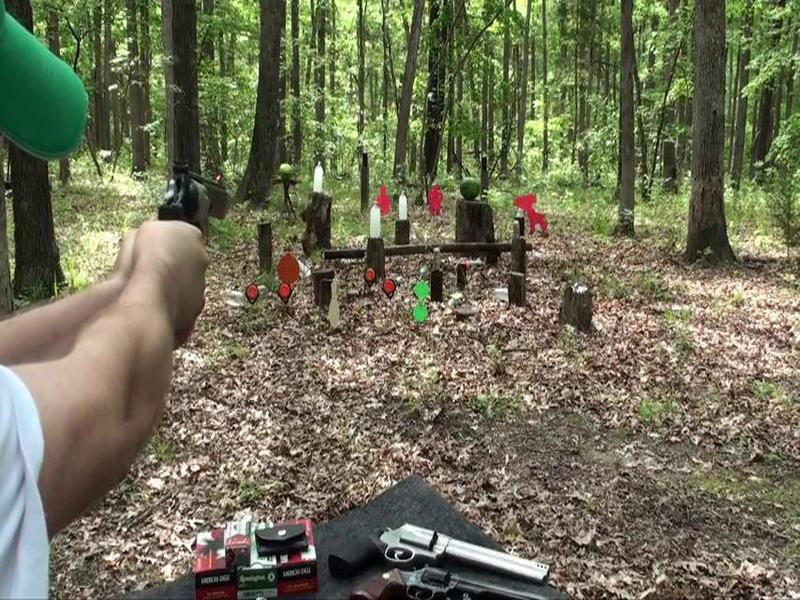Revolver: (152, 169, 253, 264)
